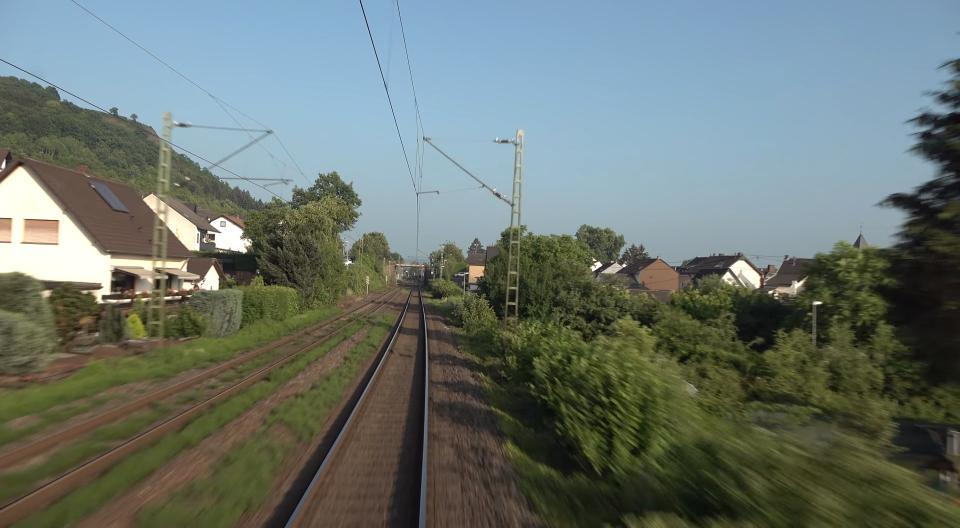Plant: (17, 320, 369, 528), (136, 312, 396, 528), (0, 308, 342, 423), (0, 402, 173, 503), (0, 392, 130, 447), (215, 340, 304, 382), (175, 383, 218, 406), (327, 312, 364, 331), (368, 313, 382, 319)
